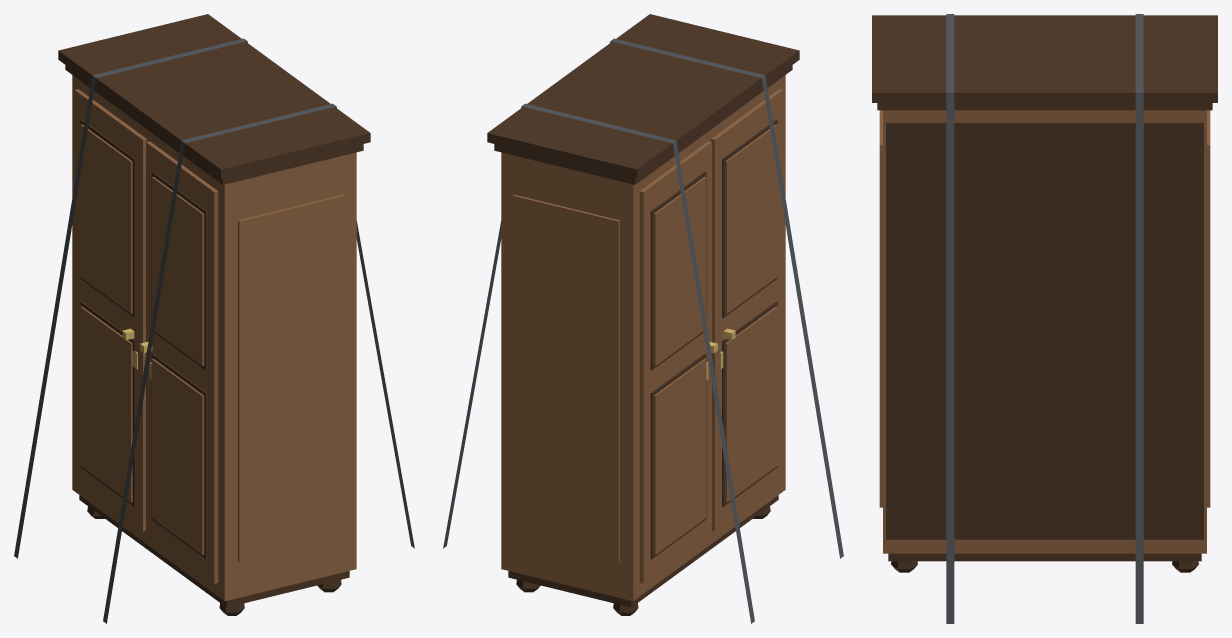
The model's file is wardrobe.glb.
The picture shows the model from 3 angles, left to right: view 1: azimuth 30°, elevation 25°; view 2: azimuth 150°, elevation 25°; view 3: azimuth 270°, elevation 25°; orthographic projection. The views are drawn at different scales.
Parts seen in each view (by area): view 1: Wardrobe; view 2: Wardrobe; view 3: Wardrobe.
Boxes of the visible parts, box(x1,y1,x2,y2) form: Wardrobe: box(14, 14, 414, 623); Wardrobe: box(443, 14, 843, 623); Wardrobe: box(872, 14, 1217, 623).
Bounding box in the file's own units: 1.4 × 2 × 1.28.
